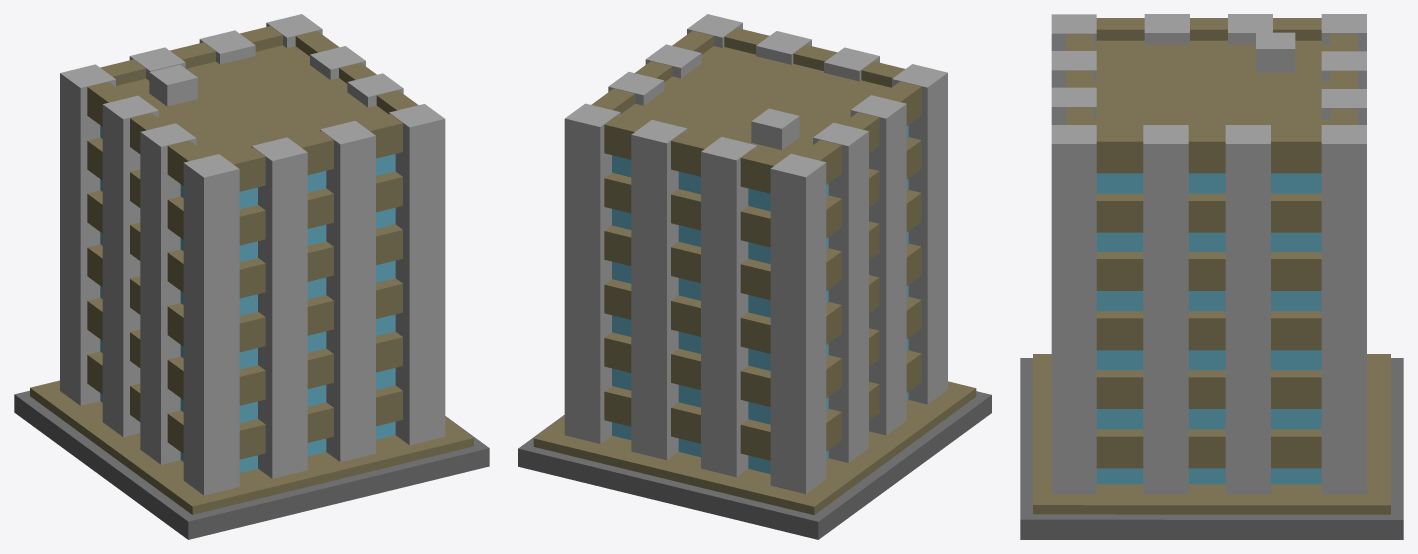
File: Towers2.fbx
3 views of the same model, side by side, from view 1: azimuth 30°, elevation 25°; view 2: azimuth 150°, elevation 25°; view 3: azimuth 270°, elevation 25° (orthographic). The views are drawn at different scales.
Parts seen in each view (by area): view 1: pCube5, pCube8, pCube11, pCube9, pCube10, pCube21, pCube20, pCube19, pCube15, pCube18, pCube7, pCube3 (+10 smaller); view 2: pCube5, pCube15, pCube12, pCube16, pCube17, pCube21, pCube20, pCube18, pCube19, pCube8, pCube7, pCube4 (+10 smaller); view 3: pCube5, pCube13, pCube11, pCube12, pCube14, pCube7, pCube20, pCube21, pCube1, pCube4, pCube6, pCube2 (+10 smaller).
Part boxes in pixels (<box>): pCube5: <box>87,26,418,191</box>; pCube8: <box>183,154,239,495</box>; pCube11: <box>389,104,445,445</box>; pCube9: <box>251,137,307,478</box>; pCube10: <box>320,120,375,462</box>; pCube21: <box>14,390,489,539</box>; pCube20: <box>30,380,473,514</box>; pCube19: <box>140,123,196,464</box>; pCube15: <box>60,64,115,405</box>; pCube18: <box>102,95,158,436</box>; pCube7: <box>100,125,395,472</box>; pCube3: <box>87,190,402,298</box>; pCube5: <box>591,28,921,193</box>; pCube15: <box>770,153,826,493</box>; pCube12: <box>564,103,620,443</box>; pCube16: <box>631,120,687,460</box>; pCube17: <box>701,137,756,477</box>; pCube21: <box>518,391,991,539</box>; pCube20: <box>533,381,976,514</box>; pCube18: <box>813,122,868,462</box>; pCube19: <box>850,95,906,435</box>; pCube8: <box>892,64,947,404</box>; pCube7: <box>612,125,908,474</box>; pCube4: <box>604,243,921,353</box>; pCube5: <box>1066,18,1357,173</box>; pCube13: <box>1143,125,1188,494</box>; pCube11: <box>1051,125,1096,494</box>; pCube12: <box>1321,125,1366,494</box>; pCube14: <box>1225,125,1270,494</box>; pCube7: <box>1096,173,1321,484</box>; pCube20: <box>1033,354,1390,514</box>; pCube21: <box>1020,358,1403,539</box>; pCube1: <box>1096,429,1321,468</box>; pCube4: <box>1096,311,1321,350</box>; pCube6: <box>1096,193,1321,232</box>; pCube2: <box>1096,370,1321,408</box>.
Size of the model in its own units: 9.81 by 11.06 by 9.81.
